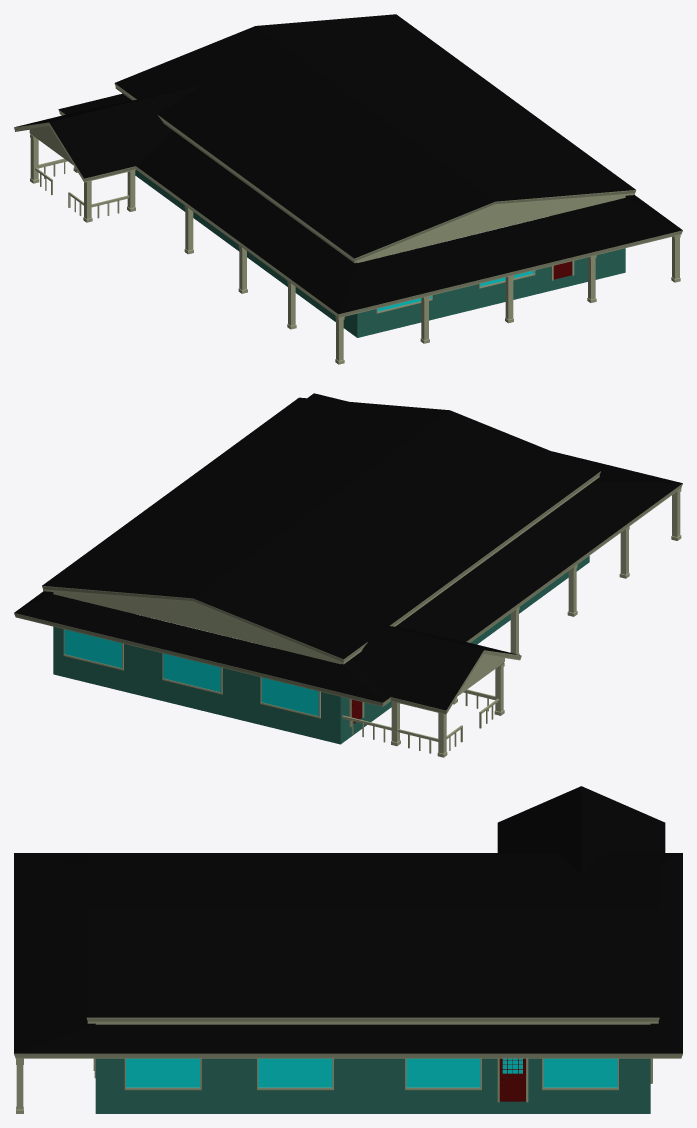
Rendered from Community CenterF.fbx.
3 renders of one model, top to bottom at view 1: azimuth 30°, elevation 25°; view 2: azimuth 150°, elevation 25°; view 3: azimuth 270°, elevation 25°, orthographic. The views are drawn at different scales.
Parts seen in each view (by area): view 1: House_4_Roof2, Building, pCube222; view 2: House_4_Roof2, Building, pCube222; view 3: House_4_Roof2, Building, pCube222, polySurface60.
Boxes of the visible parts, x1,y1,x2,y2 form: House_4_Roof2: [14, 14, 682, 364]; Building: [135, 170, 625, 337]; pCube222: [376, 270, 535, 313]; House_4_Roof2: [14, 393, 682, 757]; Building: [53, 556, 589, 744]; pCube222: [63, 629, 320, 718]; House_4_Roof2: [14, 786, 682, 1113]; Building: [95, 1058, 650, 1113]; pCube222: [94, 1058, 652, 1090]; polySurface60: [499, 1058, 525, 1101].
Size of the model in its own units: 70.89 by 18.2 by 86.79.
